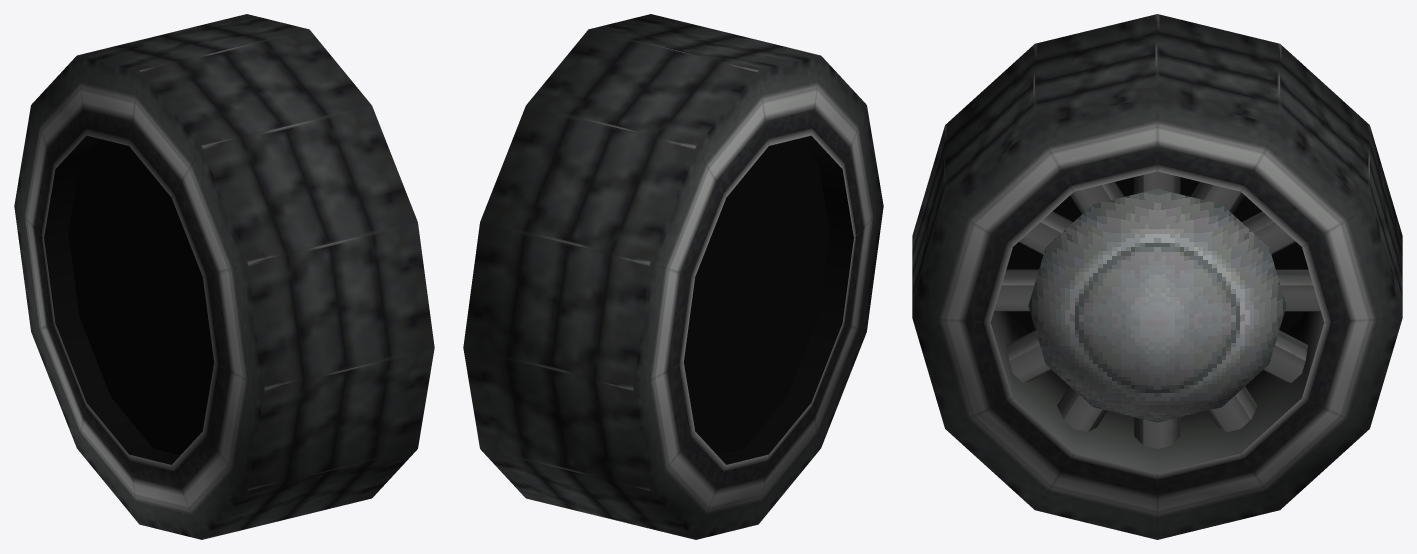
The model's file is DefaultWheel_virgo.glb.
The picture shows the model from 3 angles, left to right: view 1: azimuth 30°, elevation 25°; view 2: azimuth 150°, elevation 25°; view 3: azimuth 270°, elevation 25°; orthographic projection. The views are drawn at different scales.
Parts seen in each view (by area): view 1: wheel; view 2: wheel; view 3: wheel.
Boxes of the visible parts, x1=… form: wheel: x1=14, y1=14, x2=434, y2=539; wheel: x1=463, y1=14, x2=883, y2=539; wheel: x1=912, y1=14, x2=1402, y2=539.
Bounding box in the file's own units: 0.2888 × 0.6493 × 0.6493.
4 materials, 3 textured.
